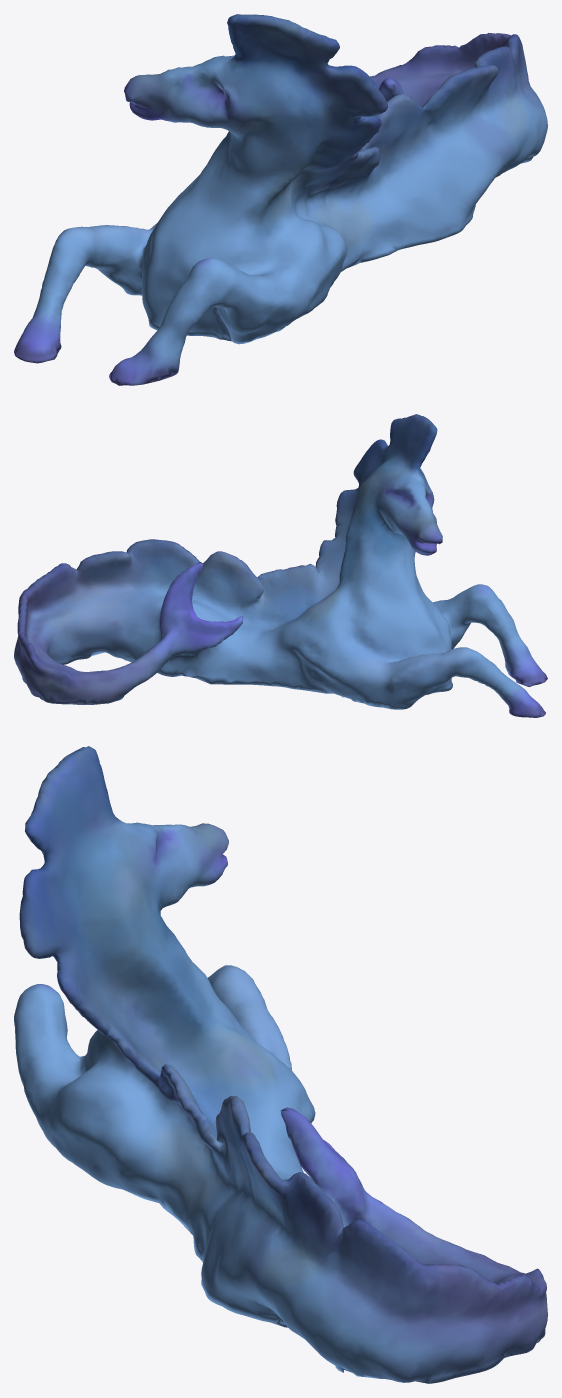
The model's file is celine.glb.
3 views of the same model, one above another, from view 1: azimuth 30°, elevation 25°; view 2: azimuth 150°, elevation 25°; view 3: azimuth 270°, elevation 25° (orthographic). The views are drawn at different scales.
Visible parts, largest first — view 1: Modelf; view 2: Modelf; view 3: Modelf.
Boxes of the visible parts, left/top/right/bottom form: Modelf: left=14, top=14, right=547, bottom=385; Modelf: left=14, top=414, right=547, bottom=717; Modelf: left=14, top=746, right=547, bottom=1383.
Bounding box in the file's own units: 7.99 × 4.03 × 4.93.
